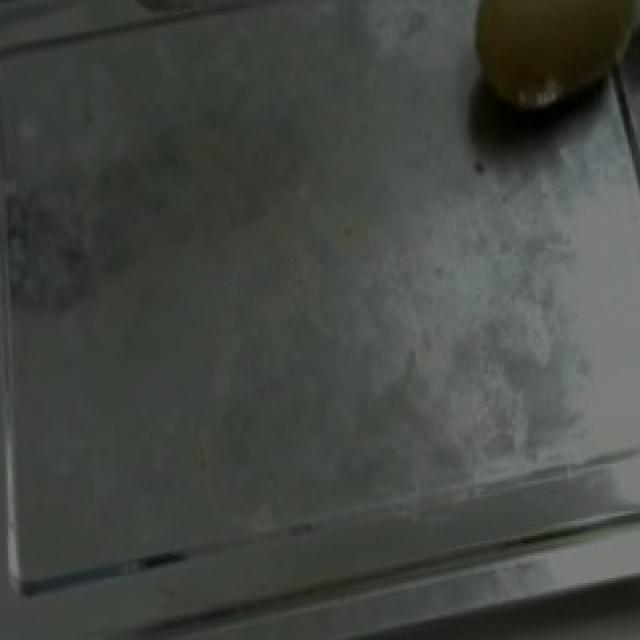Fruit: (430, 0, 640, 174)
